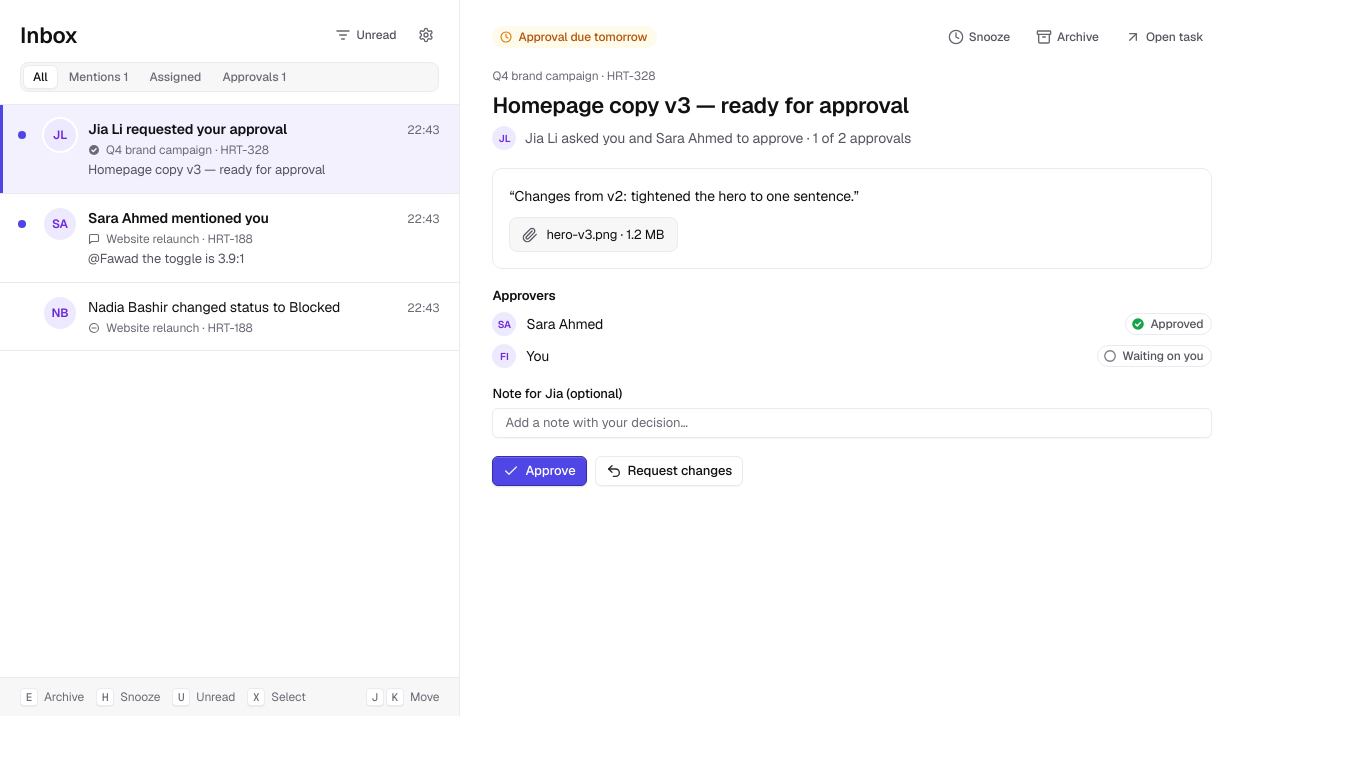
Scenario: InboxPage › rolls back a failed decision
The width and height of the screenshot is (1366, 768).
Click the button "Request changes".
click(669, 471)  # box [595,456,743,486]
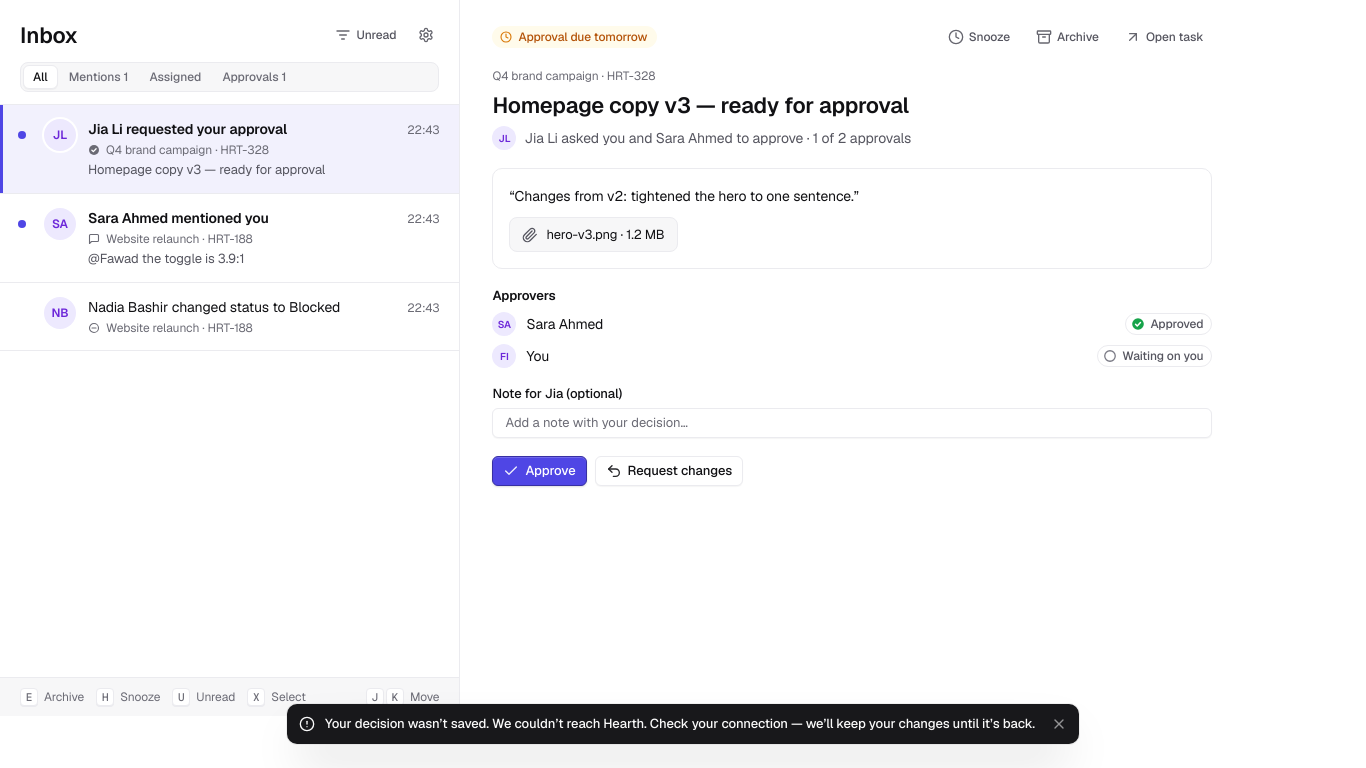
Expected: the text "Waiting on you" is shown, [1097,345,1212,367]
Expected: the text "Your decision wasn’t saved" is shown, [325,715,1035,732]
